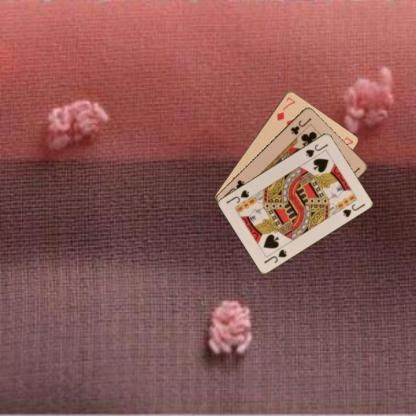7d: (274, 94, 296, 122)
Jc: (288, 115, 312, 136)
Js: (261, 246, 288, 265), (302, 140, 330, 158)
